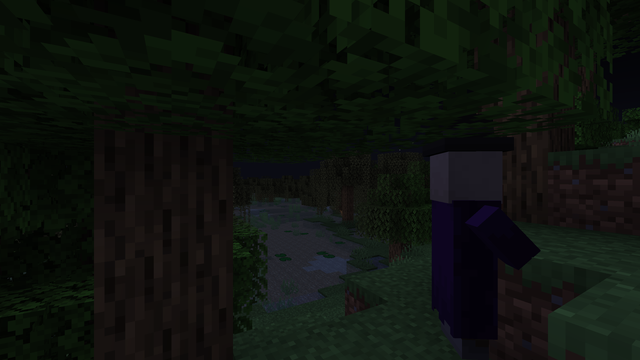sorcieres: (417, 140, 512, 357)
